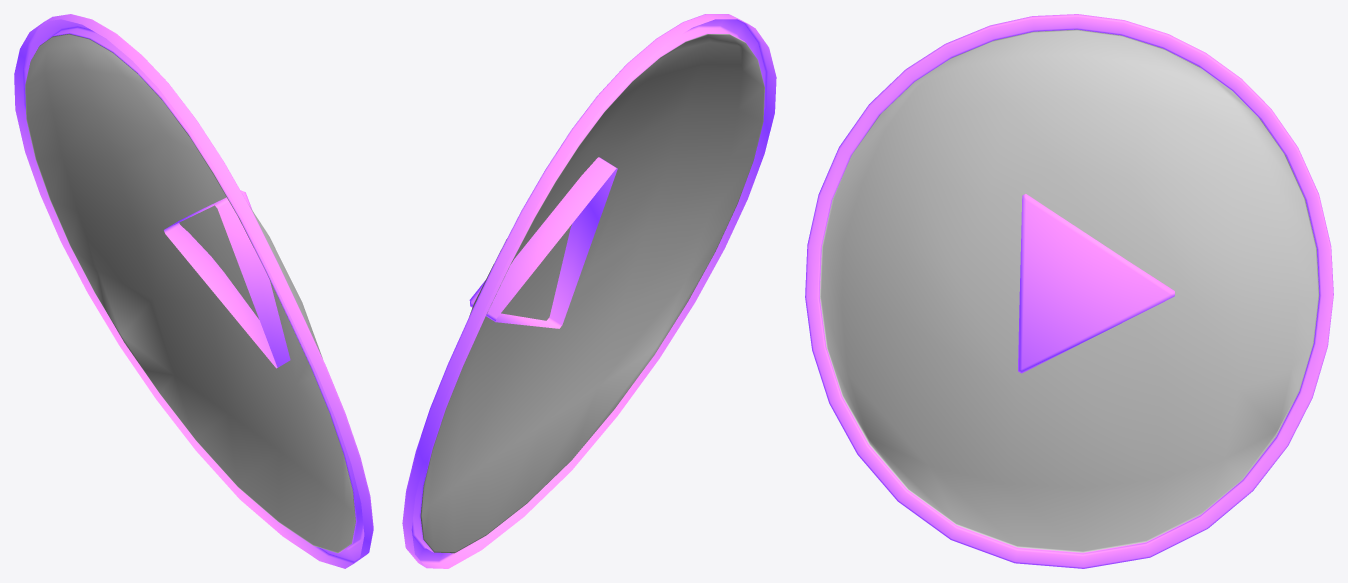
Rendered from ship-window.glb.
3 views of the same model, side by side, from view 1: azimuth 30°, elevation 25°; view 2: azimuth 150°, elevation 25°; view 3: azimuth 270°, elevation 25° (orthographic). The views are drawn at different scales.
Parts seen in each view (by area): view 1: Circle; view 2: Circle; view 3: Circle.
Part boxes in pixels (x1,y1,x2,y2): Circle: (14, 14, 373, 568); Circle: (402, 14, 776, 568); Circle: (805, 14, 1333, 568).
Bounding box in the file's own units: 0.8341 × 2.3 × 2.3.
